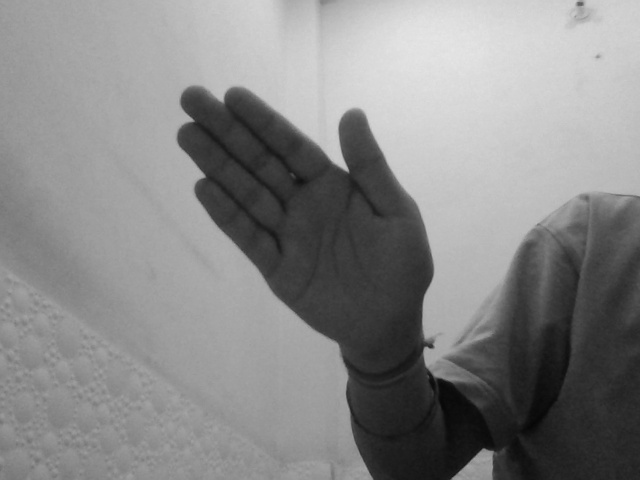Hello: (173, 83, 438, 333)
